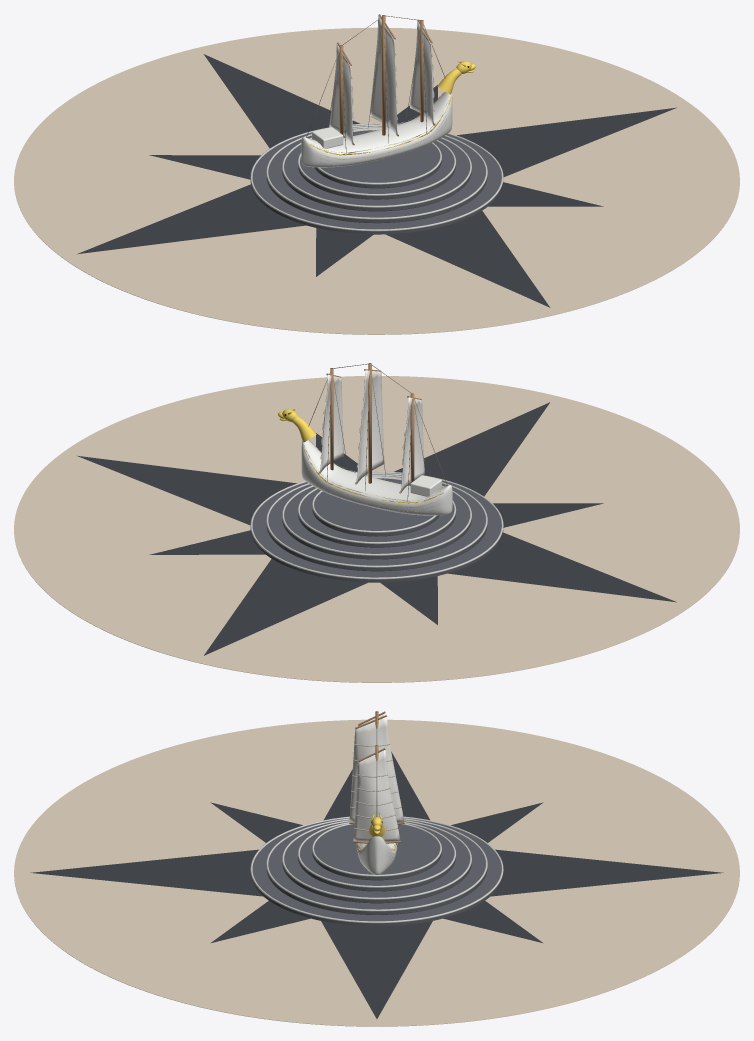
File: lancang-kuning.glb
3 renders of one model, top to bottom at view 1: azimuth 30°, elevation 25°; view 2: azimuth 150°, elevation 25°; view 3: azimuth 270°, elevation 25°, orthographic.
Visible parts, largest first — view 1: EX_LK_Paving, EX_LK_Bintang, EX_LK_Granit, EX_LK_CatPutih, EX_LK_Layar, EX_LK_TepiTerang, EX_LK_KayuTiang, EX_LK_Tali, EX_LK_Emas; view 2: EX_LK_Paving, EX_LK_Bintang, EX_LK_Granit, EX_LK_CatPutih, EX_LK_Layar, EX_LK_TepiTerang, EX_LK_KayuTiang, EX_LK_Tali, EX_LK_Emas; view 3: EX_LK_Paving, EX_LK_Bintang, EX_LK_Granit, EX_LK_TepiTerang, EX_LK_Layar, EX_LK_CatPutih.
Part boxes in pixels (x1,y1,x2,y2): EX_LK_Paving: (14,27,739,334); EX_LK_Bintang: (77,54,676,307); EX_LK_Granit: (250,124,503,234); EX_LK_CatPutih: (301,92,452,167); EX_LK_Layar: (329,15,433,144); EX_LK_TepiTerang: (250,123,503,231); EX_LK_KayuTiang: (337,14,435,145); EX_LK_Tali: (306,15,445,153); EX_LK_Emas: (310,60,475,155); EX_LK_Paving: (14,376,739,682); EX_LK_Bintang: (77,402,676,655); EX_LK_Granit: (250,473,503,582); EX_LK_CatPutih: (301,440,452,515); EX_LK_Layar: (320,370,424,492); EX_LK_TepiTerang: (250,471,503,579); EX_LK_KayuTiang: (318,363,421,493); EX_LK_Tali: (308,363,447,501); EX_LK_Emas: (278,408,443,503); EX_LK_Paving: (14,719,739,1026); EX_LK_Bintang: (30,751,723,1018); EX_LK_Granit: (250,818,503,926); EX_LK_TepiTerang: (250,816,503,923); EX_LK_Layar: (349,713,404,841); EX_LK_CatPutih: (356,825,397,874).
Bounding box in the file's own units: 46 × 11.52 × 46.
